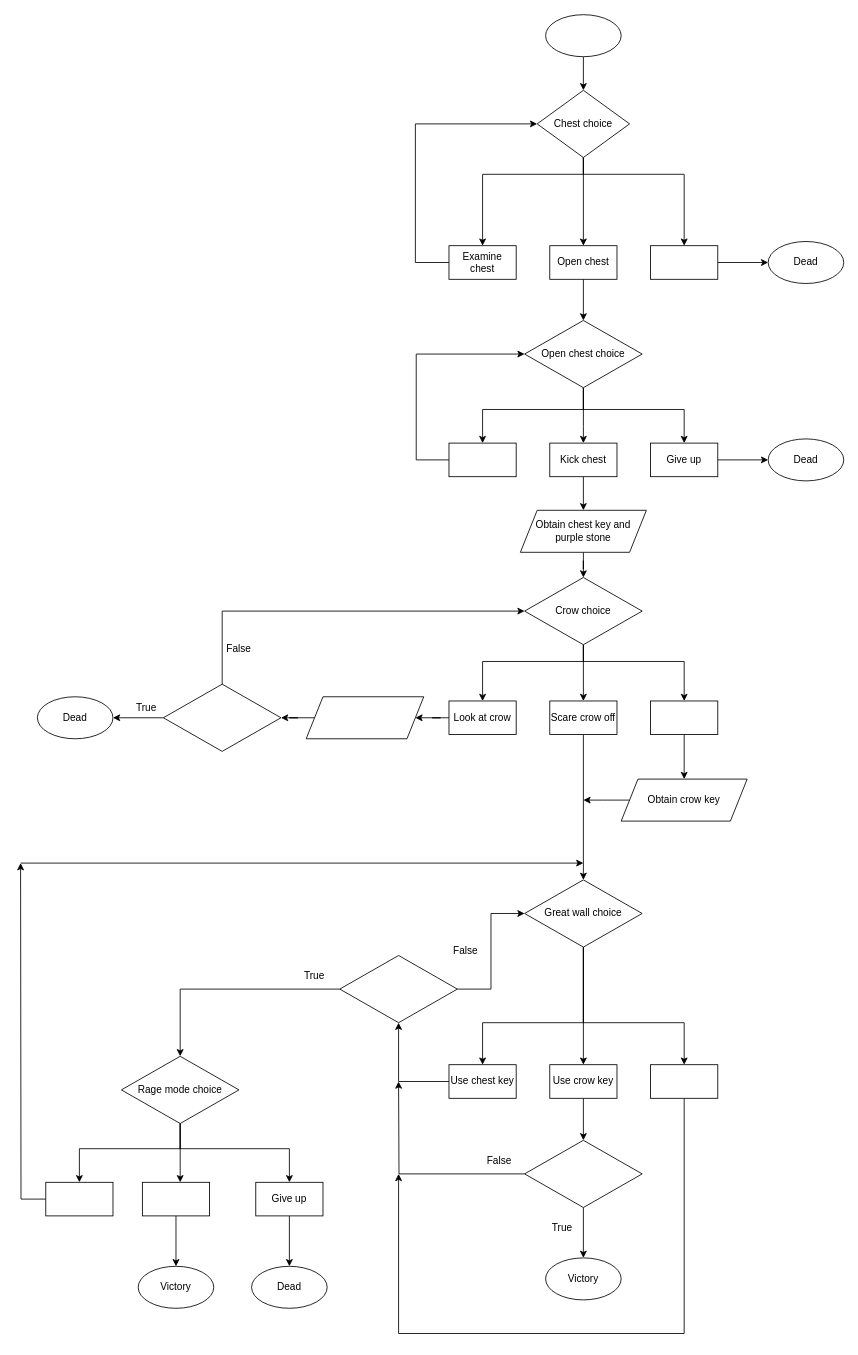
This 858x1355 diagram has some shape labels left out. The shapes that lost their labels are listed below. From the top down, each one's centre as x and y in pixels, then its label:
At pixel 583 35: "Start game".
At pixel 684 262: "Leave chest".
At pixel 482 459: "Cast spell on chest".
At pixel 222 717: "false_attempt >= 2".
At pixel 364 717: "false_attempt += 1".
At pixel 684 717: "Give crow the purple stone".
At pixel 398 989: "Try 3 times?".
At pixel 684 1081: "Shout out".
At pixel 583 1173: "Have crow key?".
At pixel 79 1198: "Talk strange symbols".
At pixel 176 1198: "Kick chest 100 times".
